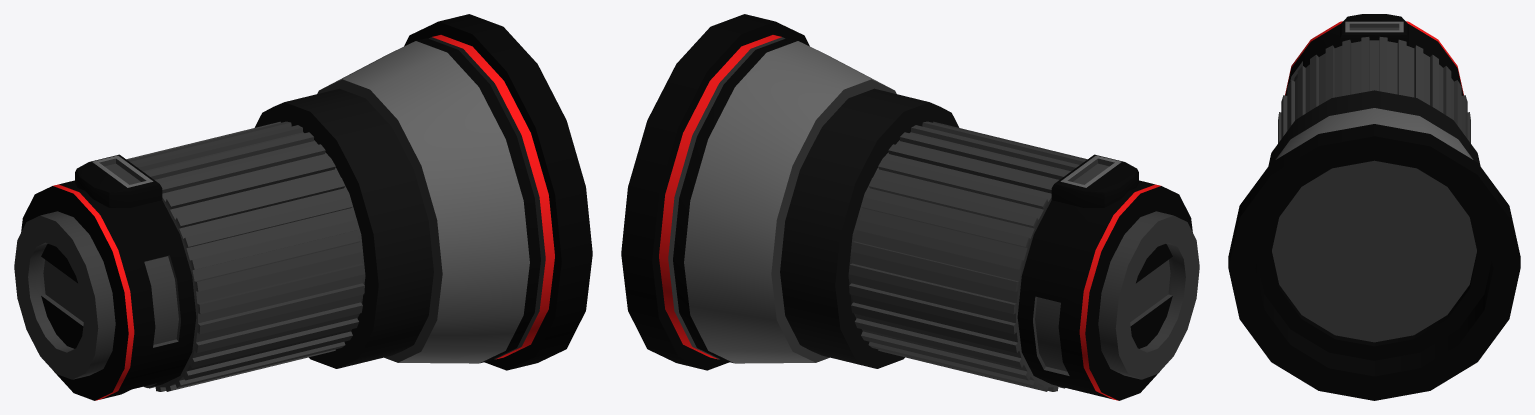
Rendered from CameraLens_04.glb.
The picture shows the model from 3 angles, left to right: view 1: azimuth 30°, elevation 25°; view 2: azimuth 150°, elevation 25°; view 3: azimuth 270°, elevation 25°; orthographic projection. The views are drawn at different scales.
Parts seen in each view (by area): view 1: Mesh_CameraLens_04; view 2: Mesh_CameraLens_04; view 3: Mesh_CameraLens_04.
Part boxes in pixels (left/top/right/bottom): Mesh_CameraLens_04: left=14, top=14, right=592, bottom=400; Mesh_CameraLens_04: left=621, top=14, right=1199, bottom=400; Mesh_CameraLens_04: left=1228, top=14, right=1520, bottom=400.
Size of the model in its own units: 0.1877 by 0.1298 by 0.1298.
1 material, 1 textured.
